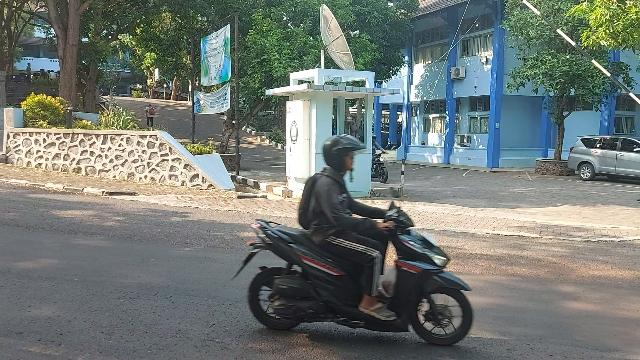helm: (324, 135, 366, 172)
motor: (232, 188, 474, 350)
